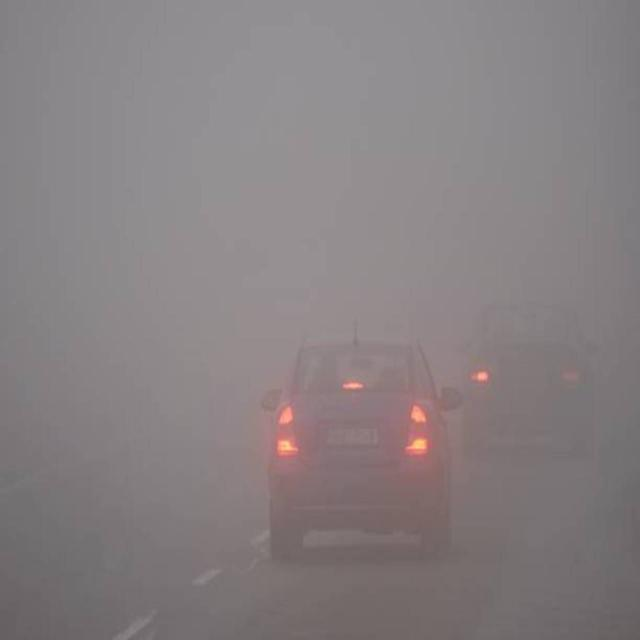car: (262, 330, 459, 559), (463, 300, 599, 454)
